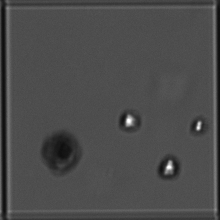Dead Cell: (42, 129, 82, 175)
Living Cell: (158, 151, 180, 182), (118, 108, 139, 134), (188, 112, 209, 138)
